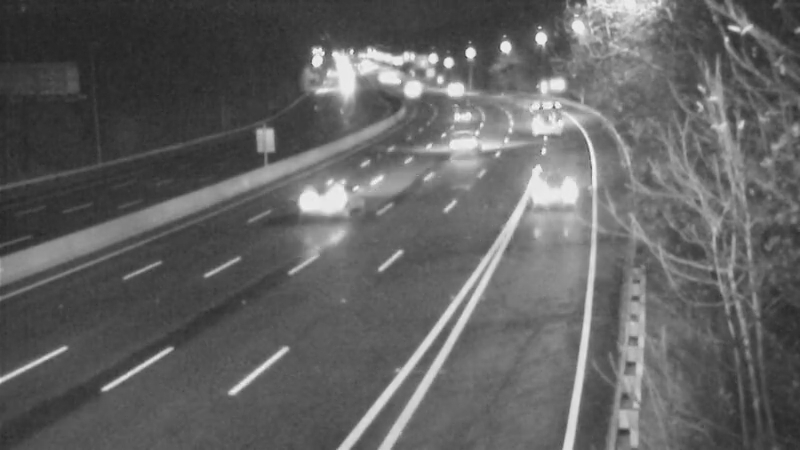vehicle: (505, 155, 585, 235), (284, 156, 364, 236), (428, 62, 478, 112), (389, 69, 439, 119), (427, 92, 477, 142), (523, 97, 573, 147), (438, 118, 488, 168)
